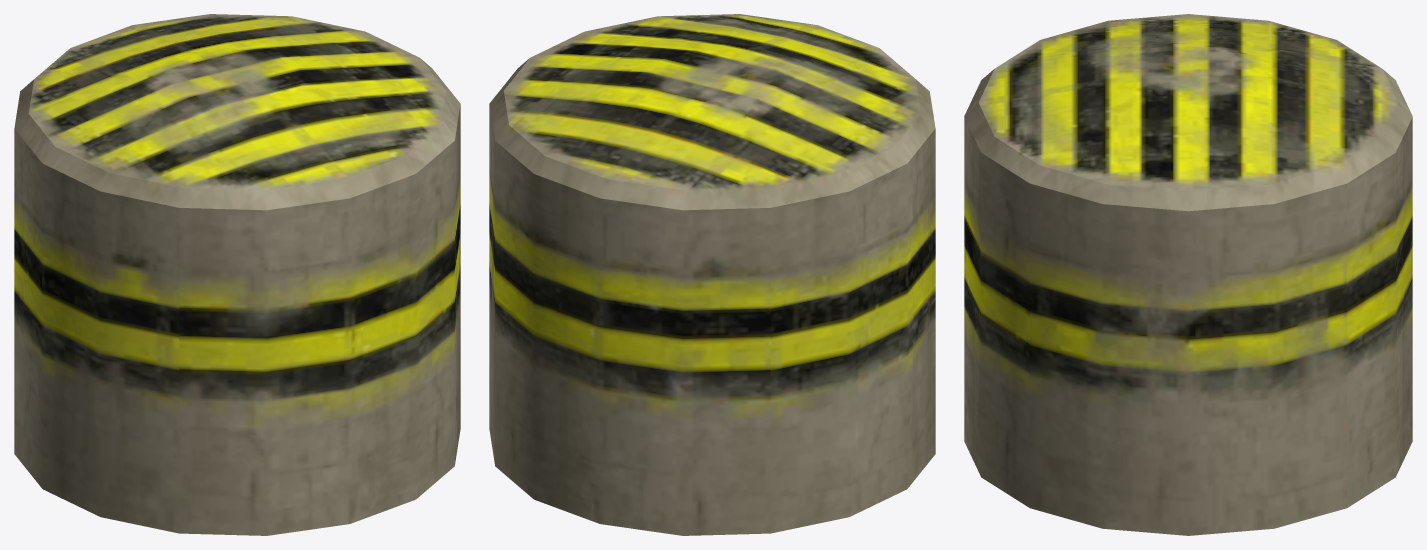
Rendered from roadblock.fbx.
3 renders of one model, left to right at view 1: azimuth 30°, elevation 25°; view 2: azimuth 150°, elevation 25°; view 3: azimuth 270°, elevation 25°, orthographic.
Parts seen in each view (by area): view 1: roadblock; view 2: roadblock; view 3: roadblock.
Part boxes in pixels (<box>): roadblock: <box>14,14,460,535</box>; roadblock: <box>489,14,935,535</box>; roadblock: <box>964,14,1412,535</box>.
Size of the model in its own units: 296 by 264 by 296.
